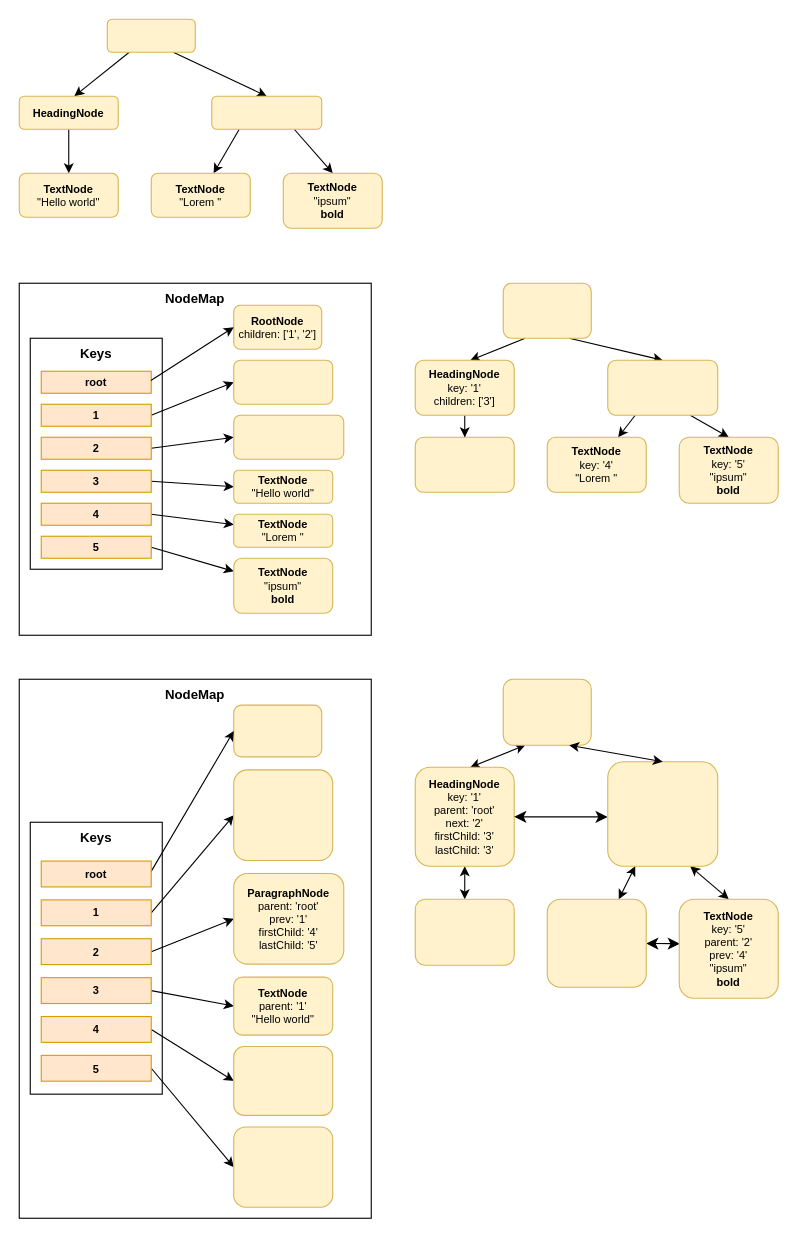
This 798x1238 diagram has some shape labels left out. Each missing label, with the centre of its shape:
HeadingNode children: ['3']: point 283,381
HeadingNode parent: 'root' next: '2' firstChild: '3' lastChild: '3': point 283,815
ParagraphNode: point 266,112
ParagraphNode children: ['4', '5']: point 288,436
ParagraphNode key: '2' children: ['4', '5']: point 662,387
ParagraphNode key: '2' parent: 'root' prev: '1' firstChild: '4' lastChild: '5': point 662,813
RootNode: point 150,35
RootNode firstChild: '1' lastChild: '2': point 277,730
RootNode key: 'root' children: ['1', '2']: point 546,310
RootNode key: 'root' firstChild: '1' lastChild: '2': point 546,711
TextNode key: '3' "Hello world": point 464,464
TextNode key: '3' parent: '1' "Hello world": point 464,931
TextNode key: '4' parent: '2' next: '5' "Lorem ": point 596,942
TextNode parent: '2' next: '5' "Lorem ": point 283,1080
TextNode parent: '2' prev: '4' "ipsum" bold: point 283,1166
